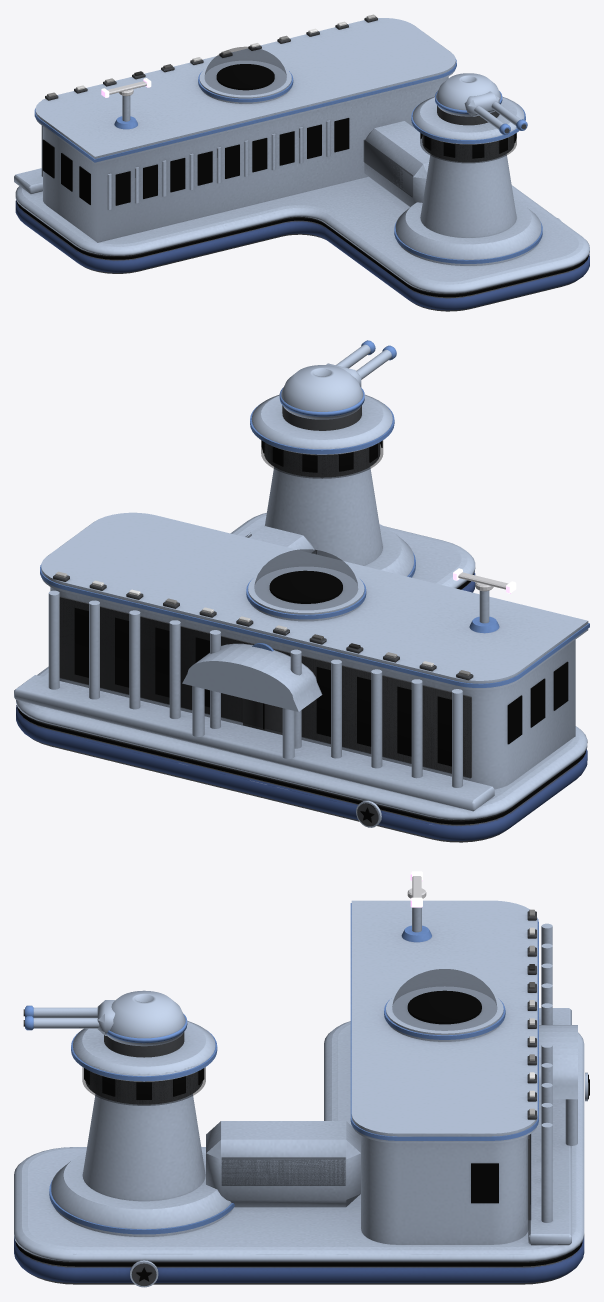
Rendered from SM_Evo_SecurityBureau.fbx.
The picture shows the model from 3 angles, top to bottom: view 1: azimuth 30°, elevation 25°; view 2: azimuth 150°, elevation 25°; view 3: azimuth 270°, elevation 25°; orthographic projection. The views are drawn at different scales.
Parts seen in each view (by area): view 1: SMN_Evo_SecurityBureau, Emblem_Fx_SecurityBureau, Head_SecurityBureau, SpinRadar_SecurityBureau; view 2: SMN_Evo_SecurityBureau, Emblem_Fx_SecurityBureau, Head_SecurityBureau, SpinRadar_SecurityBureau; view 3: SMN_Evo_SecurityBureau, Emblem_Fx_SecurityBureau, Head_SecurityBureau.
Boxes of the visible parts, x1,y1,x2,y2 form: SMN_Evo_SecurityBureau: (14,17,589,311); Emblem_Fx_SecurityBureau: (16,14,588,297); Head_SecurityBureau: (435,73,527,135); SpinRadar_SecurityBureau: (101,78,151,97); SMN_Evo_SecurityBureau: (14,394,589,842); Emblem_Fx_SecurityBureau: (17,440,585,824); Head_SecurityBureau: (279,340,396,419); SpinRadar_SecurityBureau: (453,568,516,593); SMN_Evo_SecurityBureau: (14,900,588,1287); Emblem_Fx_SecurityBureau: (15,909,589,1281); Head_SecurityBureau: (23,990,187,1046).
Size of the model in its own units: 1.86 by 0.85 by 1.86.
